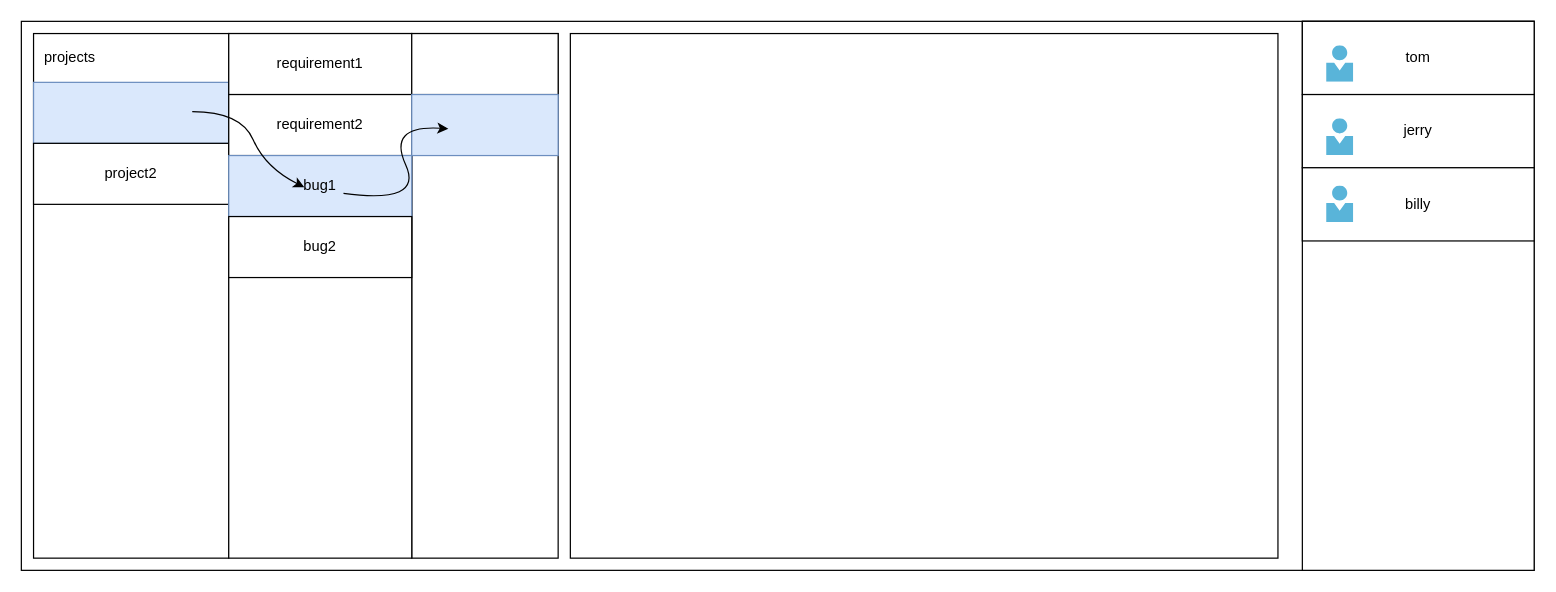
Some shapes in this 1556 by 592 pixel diagram are drawn without their labels. The centre of each missing label's shape, as x and y in pixels:
chats: (923,295)
issue1: (484,63)
issue2: (484,124)
project1: (130,112)
